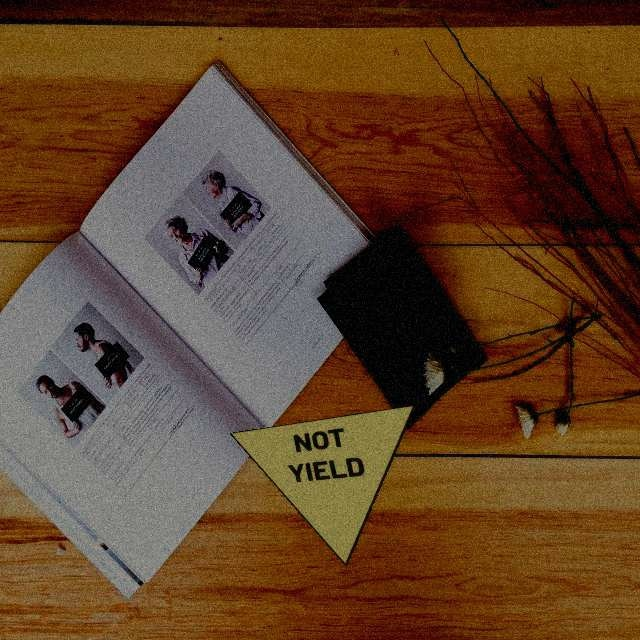NOT_YIELD: (229, 404, 416, 566)
